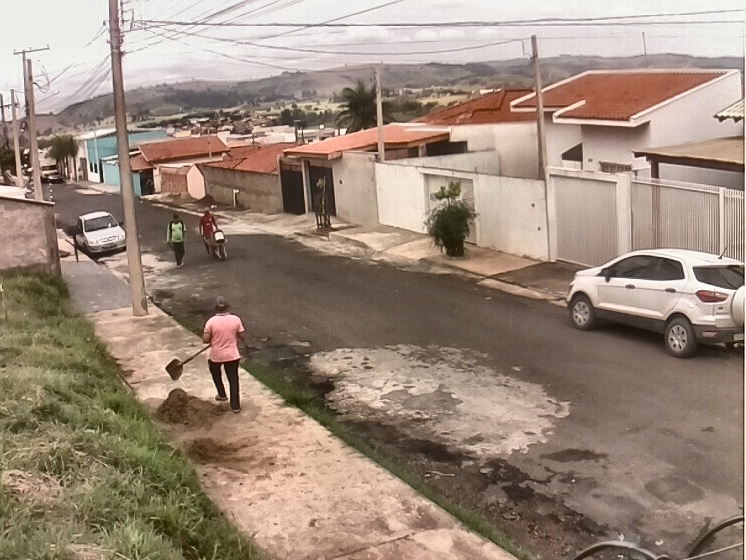person: (202, 296, 247, 413), (165, 213, 188, 268), (199, 208, 218, 241)
